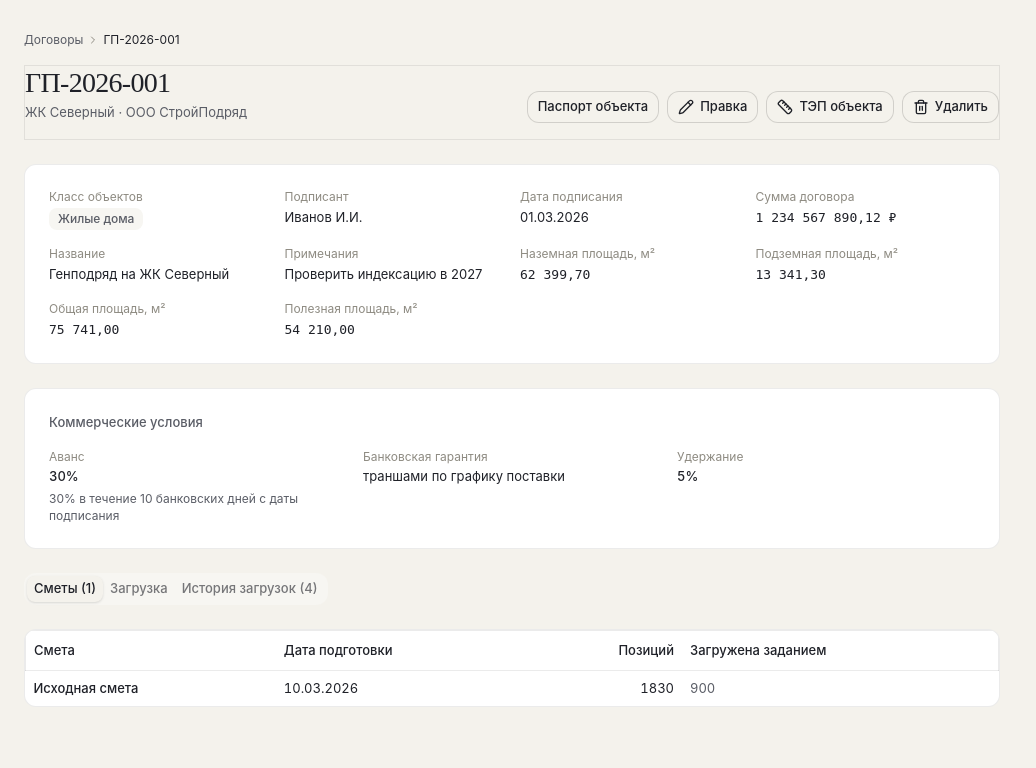
Test case: История загрузок: аудит не должен врать (разбор внешнего ревью) › показывает ТЕКСТЫ предупреждений, а не только их число (DoD)
expect the heading "ГП-2026-001" is shown: met, box [25, 67, 170, 98]
Step 1. Click the tab "История загрузок (4)" → [250, 589], box [175, 576, 325, 602]
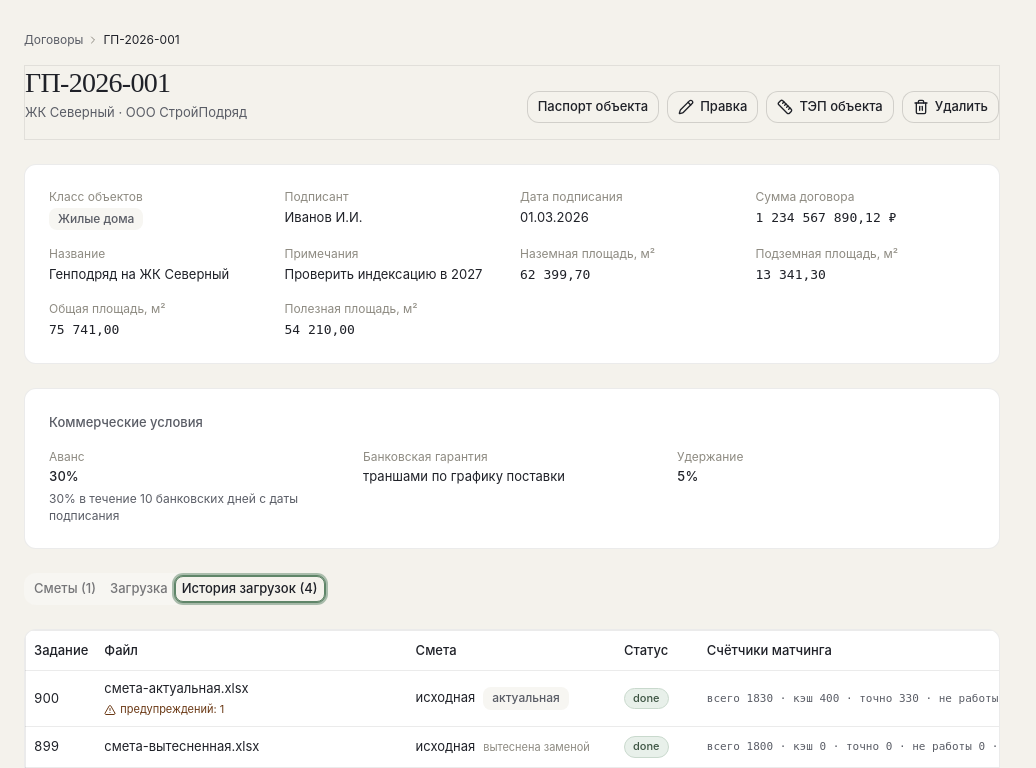
expect the text "смета-актуальная.xlsx" is shown: met, box [104, 680, 249, 696]
